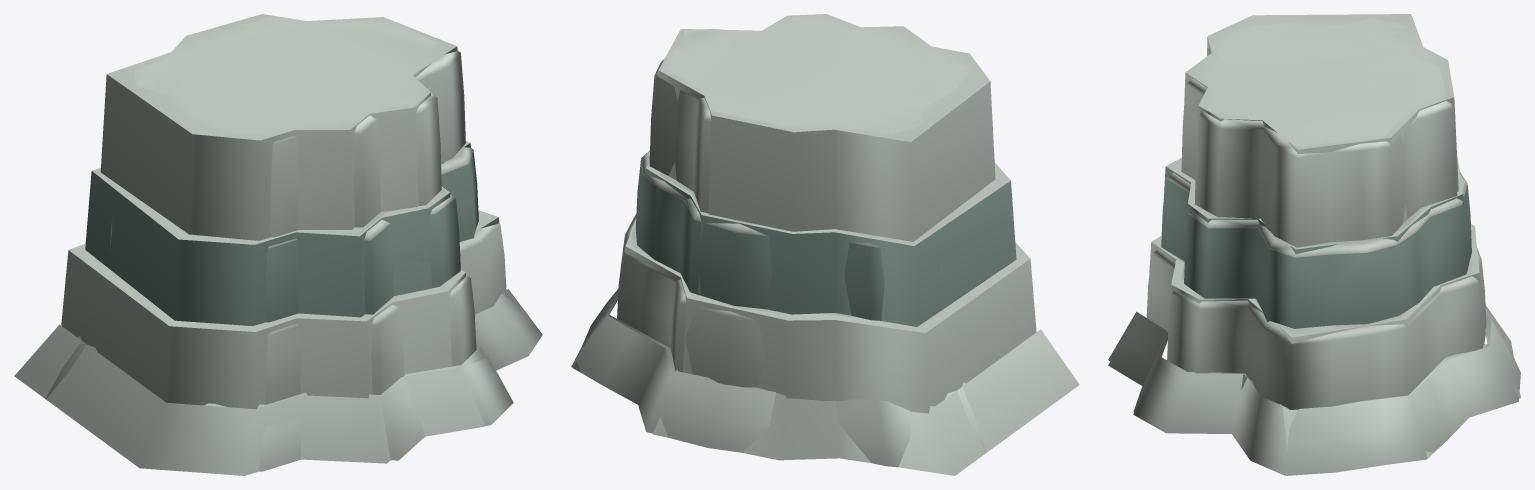
Rendered from flora.glb.
3 views of the same model, side by side, from view 1: azimuth 30°, elevation 25°; view 2: azimuth 150°, elevation 25°; view 3: azimuth 270°, elevation 25° (orthographic). The views are drawn at different scales.
Visible parts, largest first — view 1: mesa_chunk_far, mesa_chunk; view 2: mesa_chunk_far, mesa_chunk; view 3: mesa_chunk, mesa_chunk_far.
Boxes of the visible parts, <box> form: mesa_chunk_far: <box>14,14,531,475</box>; mesa_chunk: <box>45,16,542,471</box>; mesa_chunk_far: <box>572,14,1079,475</box>; mesa_chunk: <box>571,15,986,467</box>; mesa_chunk: <box>1108,18,1520,475</box>; mesa_chunk_far: <box>1108,14,1520,475</box>.
Size of the model in its own units: 38.22 by 26.31 by 32.59.
